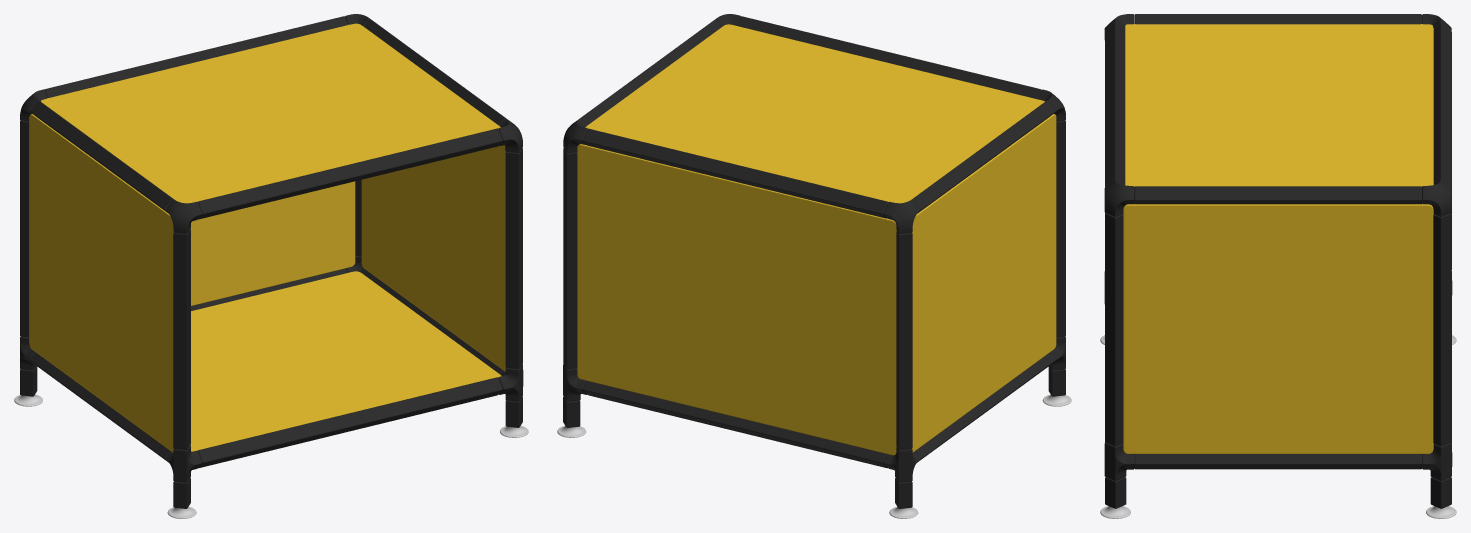
3 renders of one model, left to right at view 1: azimuth 30°, elevation 25°; view 2: azimuth 150°, elevation 25°; view 3: azimuth 270°, elevation 25°, orthographic. The views are drawn at different scales.
Parts seen in each view (by area): view 1: 479x374x329; view 2: 479x374x329; view 3: 479x374x329.
Part boxes in pixels (x1=…): 479x374x329: x1=14, y1=14, x2=528, y2=518; 479x374x329: x1=557, y1=14, x2=1071, y2=518; 479x374x329: x1=1100, y1=14, x2=1456, y2=518.
Size of the model in its own units: 0.5689 by 0.4683 by 0.4632.
